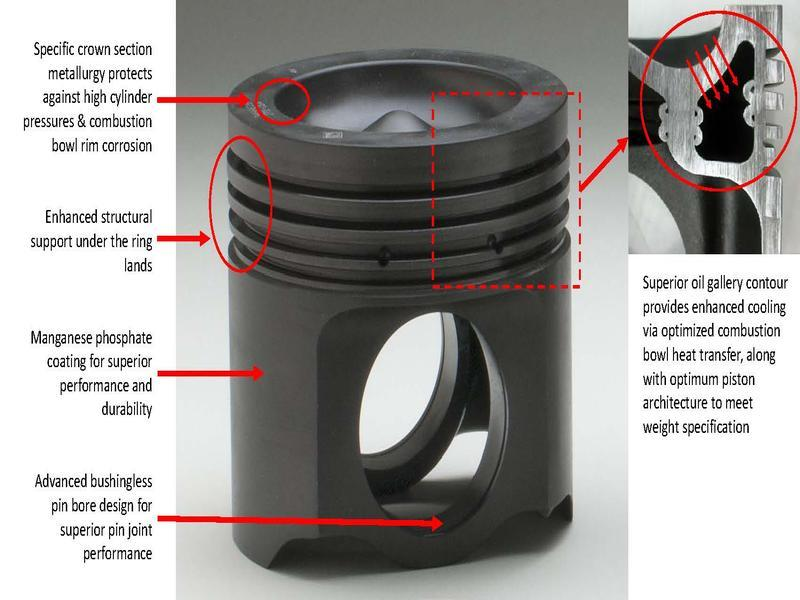piston: (213, 41, 595, 586)
